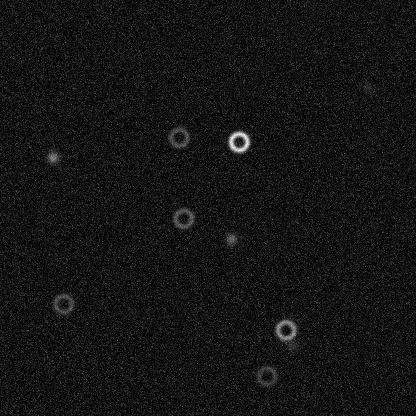Ring: (51, 291, 75, 315), (226, 129, 250, 153), (171, 206, 195, 230), (273, 317, 297, 341), (254, 363, 278, 387), (166, 125, 190, 149)
Spot: (359, 79, 375, 95), (44, 149, 60, 165), (223, 230, 239, 246), (283, 337, 299, 353)
